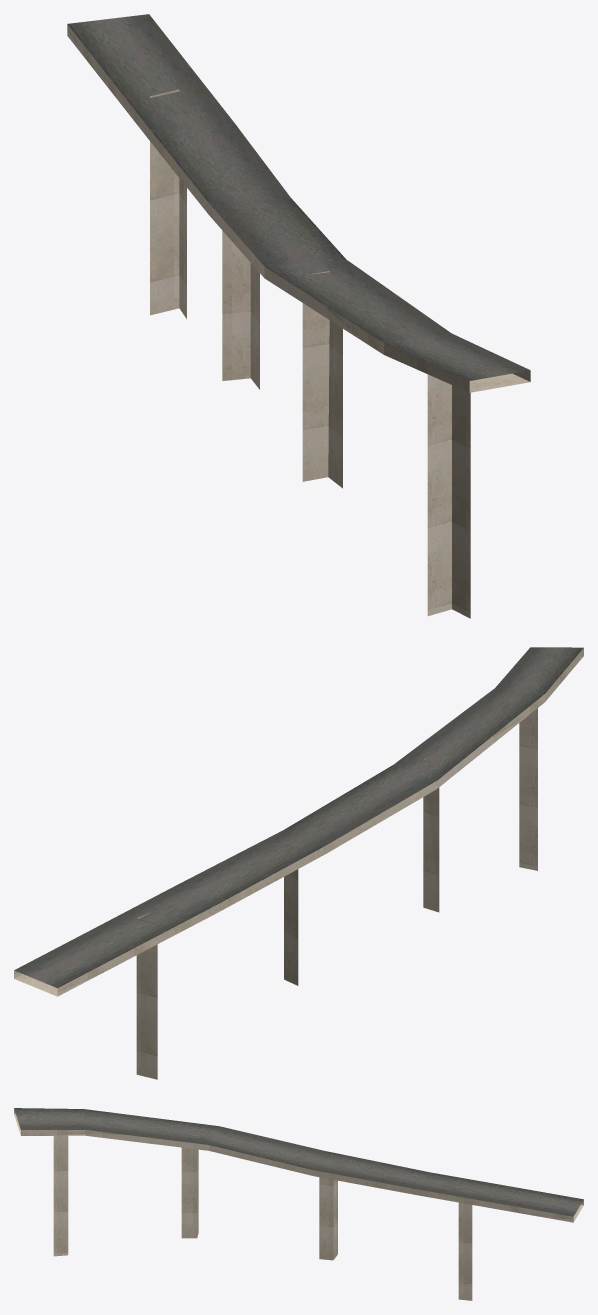
File: lodroadsfse76.obj
3 views of the same model, one above another, from view 1: azimuth 30°, elevation 25°; view 2: azimuth 150°, elevation 25°; view 3: azimuth 270°, elevation 25° (orthographic). The views are drawn at different scales.
Parts seen in each view (by area): view 1: LODroadsfse76; view 2: LODroadsfse76; view 3: LODroadsfse76.
Boxes of the visible parts, x1,y1,x2,y2 form: LODroadsfse76: [67, 14, 530, 618]; LODroadsfse76: [14, 647, 583, 1079]; LODroadsfse76: [14, 1108, 583, 1300].
Size of the model in its own units: 32.49 by 37.06 by 126.
Materials: 2 (2 with a texture image).
